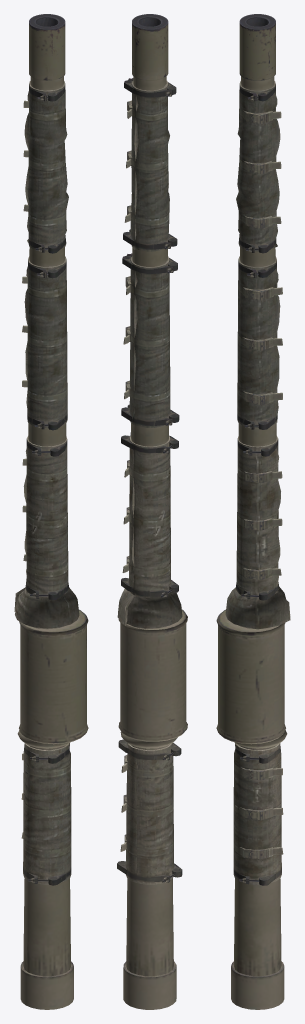
Rendered from Gun_01.glb.
The picture shows the model from 3 angles, left to right: view 1: azimuth 90°, elevation 25°; view 2: azimuth 150°, elevation 25°; view 3: azimuth 270°, elevation 25°; orthographic projection.
Visible parts, largest first — view 1: set_0_group_0; view 2: set_0_group_0; view 3: set_0_group_0.
Boxes of the visible parts, x1=… form: set_0_group_0: x1=14, y1=14, x2=88, y2=1009; set_0_group_0: x1=117, y1=14, x2=187, y2=1009; set_0_group_0: x1=216, y1=14, x2=290, y2=1009.
Size of the model in its own units: 0.3288 by 5.08 by 0.3492.
1 material, 1 textured.
